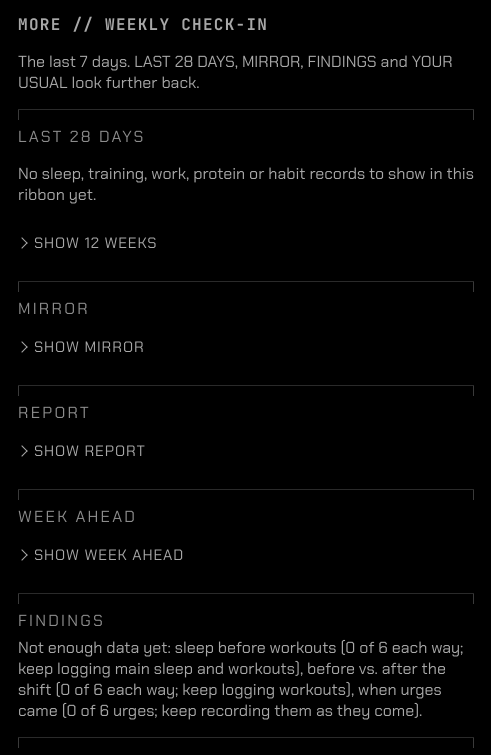
it: MIRROR-001 › is closed by default; opened, it compares now with 30 and 90 days ago and says when there's no data
Click the button "SHOW MIRROR". click: x=89, y=347
box: 34,337 -> 145,357
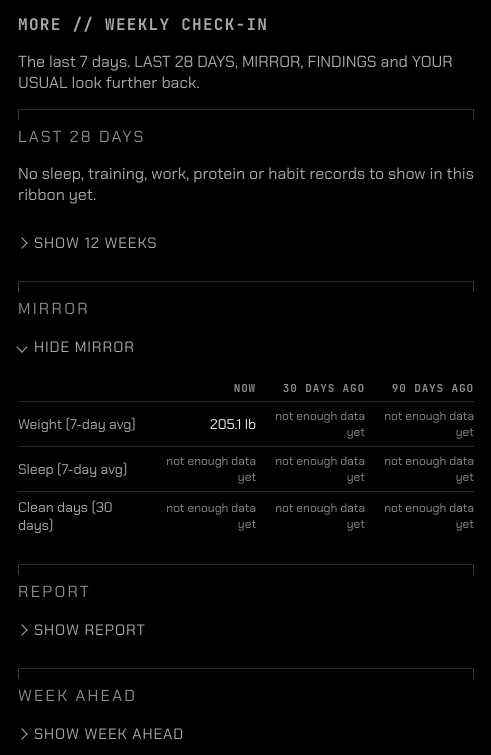
Expected: the column heading "30 DAYS AGO" is shown, 256,381 -> 365,402
Expected: the row "Weight (7-day avg)" shows "205.1 lb", 210,415 -> 256,433
Expected: the row "Weight (7-day avg)" shows "not enough data yet", 275,408 -> 365,440
